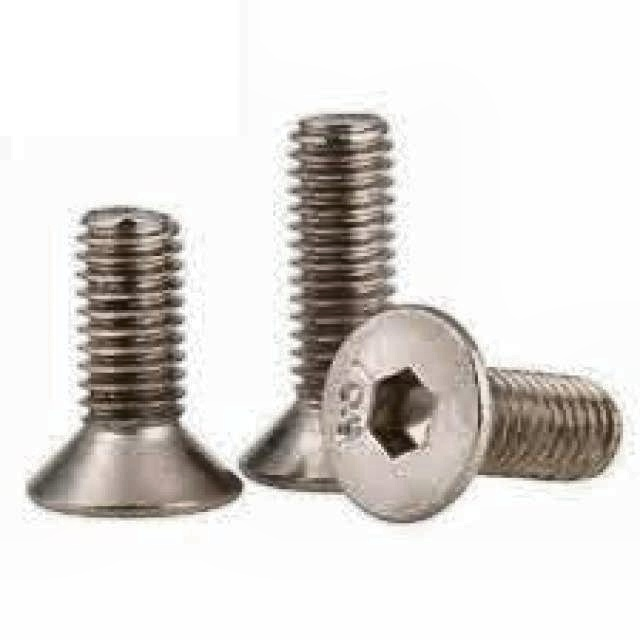allen: (320, 300, 490, 528)
